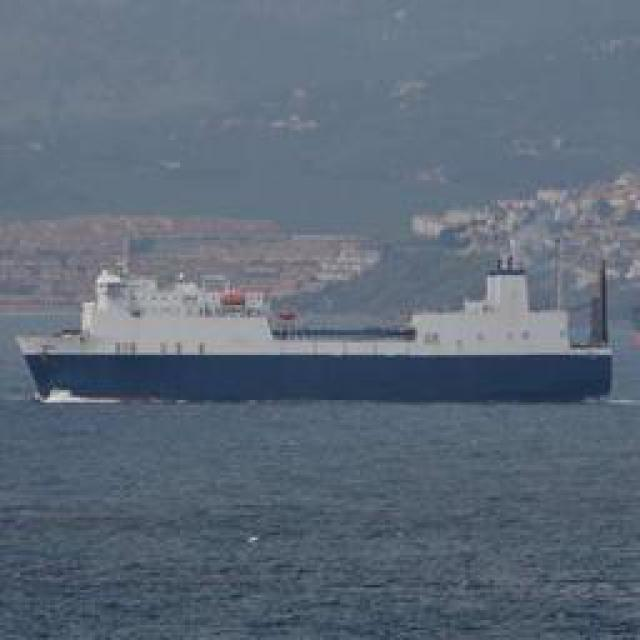Ship: (19, 231, 612, 401)
